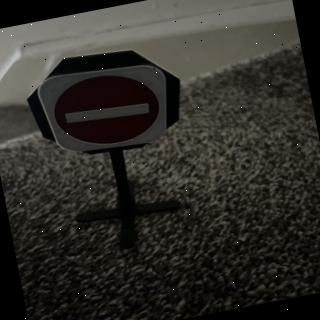sign_noentry: (28, 50, 185, 168)
